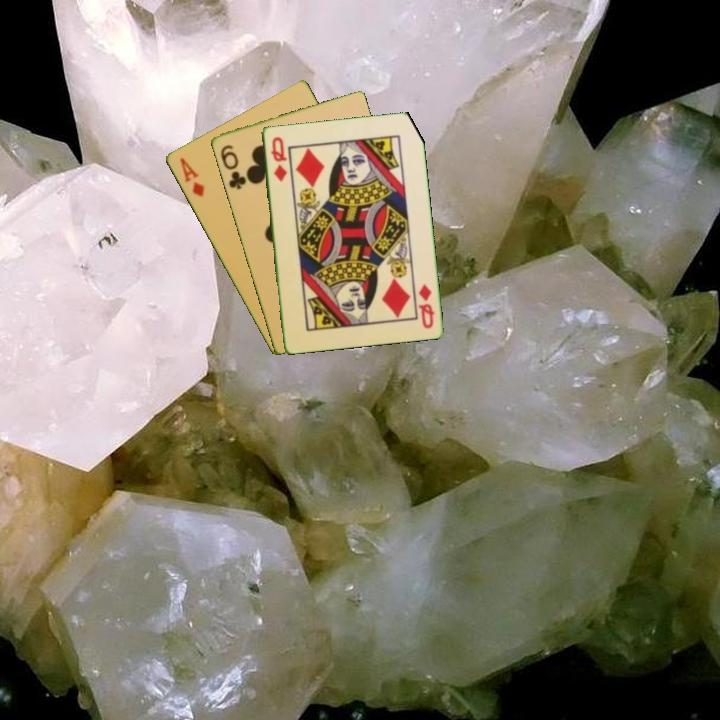6c: (217, 141, 249, 192)
Ad: (176, 154, 207, 200)
Qd: (267, 133, 289, 184), (415, 280, 437, 331)
